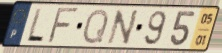5: (169, 9, 198, 48)
9: (143, 9, 168, 47)
F: (45, 7, 82, 45)
L: (24, 7, 46, 44)
N: (105, 9, 141, 47)
Q: (81, 7, 110, 46)
